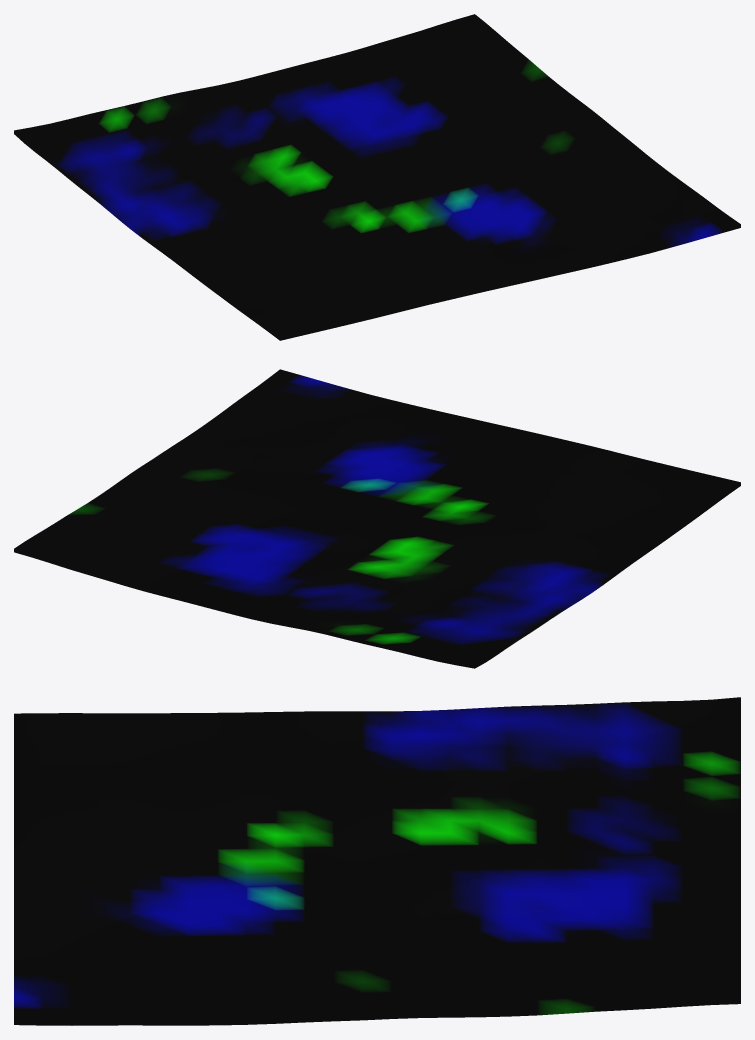
The model's file is coast_13_5.glb.
3 renders of one model, top to bottom at view 1: azimuth 30°, elevation 25°; view 2: azimuth 150°, elevation 25°; view 3: azimuth 270°, elevation 25°, orthographic. The views are drawn at different scales.
Visible parts, largest first — view 1: terrain; view 2: terrain; view 3: terrain.
Boxes of the visible parts, x1,y1,x2,y2 form: terrain: (14, 14, 740, 340); terrain: (14, 369, 740, 668); terrain: (14, 697, 740, 1025).
Size of the model in its own units: 200 by 9.3 by 200.
